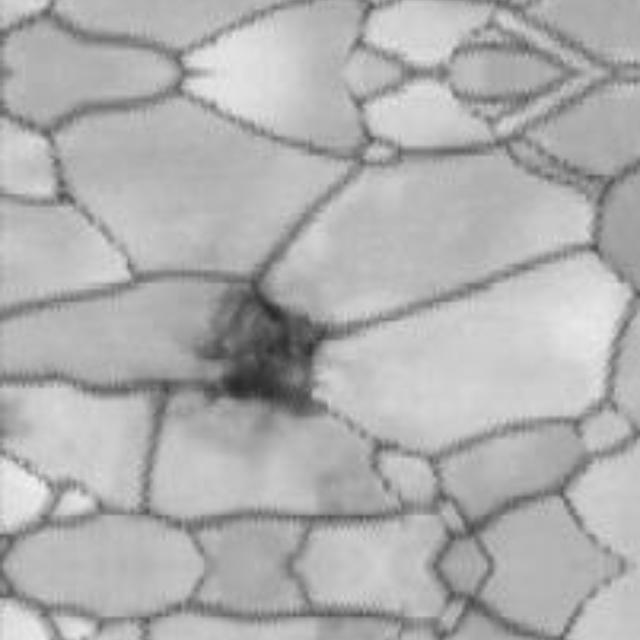good_void: (200, 279, 346, 424)
